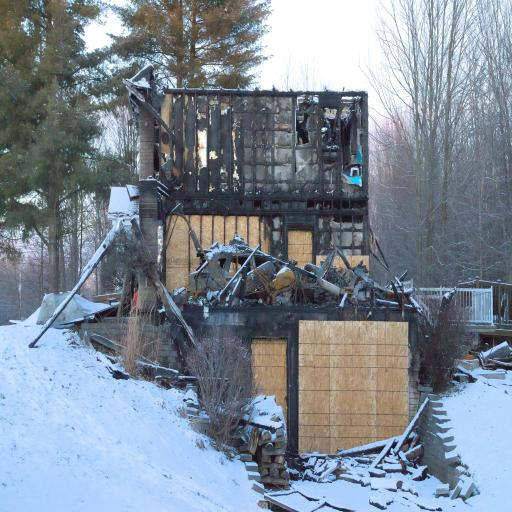buildingfire: (100, 52, 456, 458)
